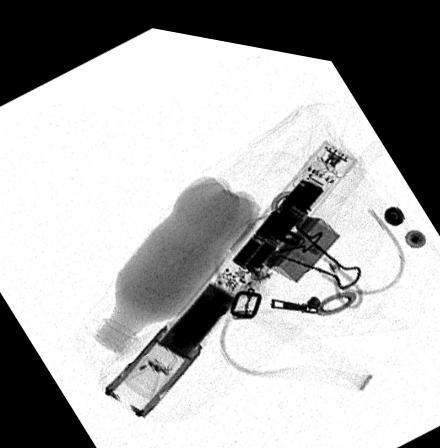Baton: (101, 125, 357, 414)
